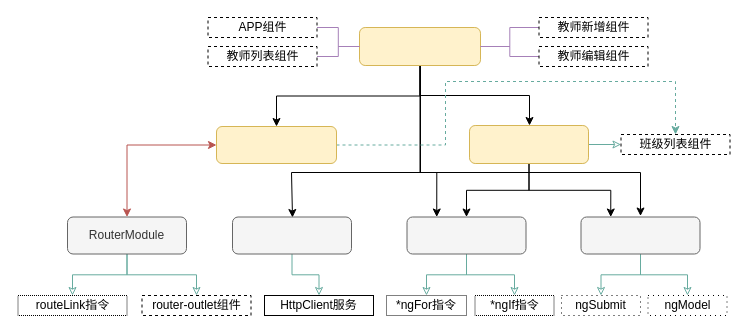
The diagram is 747 pixels wide and 333 high, and some of its shapes have lost their labels. Each missing label, with the box of its shape:
AppModule: (358, 26, 480, 66)
AppRoutingModule: (216, 126, 336, 164)
BrowserModule: (406, 216, 526, 254)
FormsModule: (580, 216, 700, 254)
HttpClientModule: (232, 216, 352, 254)
KlassModule: (468, 124, 588, 164)
